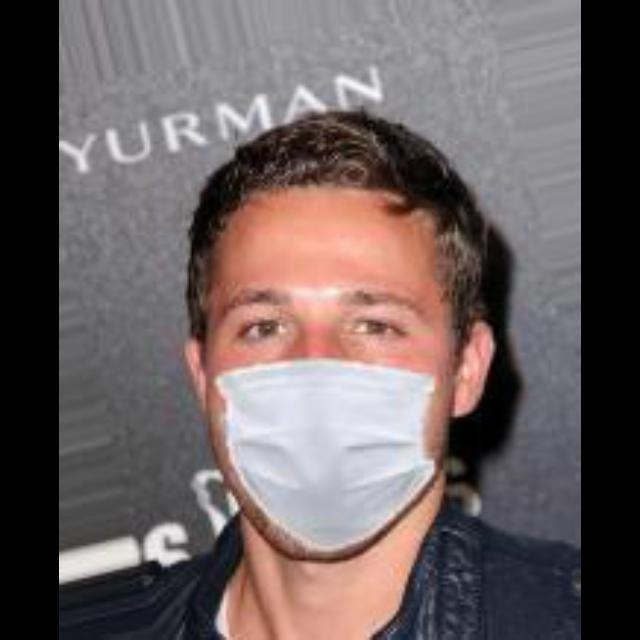suspicion: (205, 176, 489, 554)
